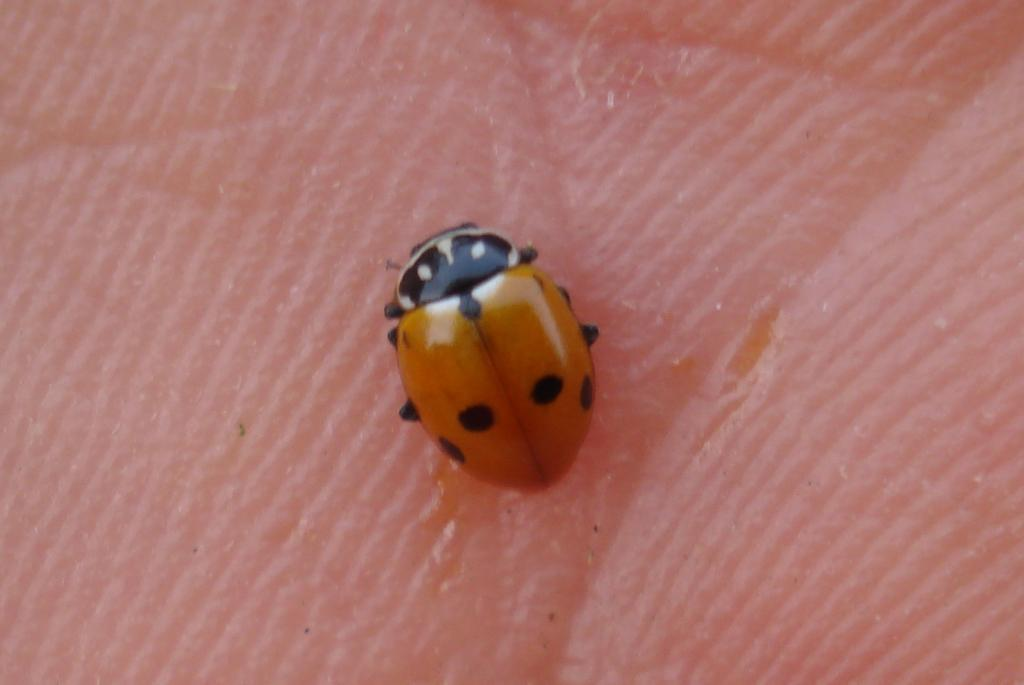ladybug: (381, 219, 605, 497)
